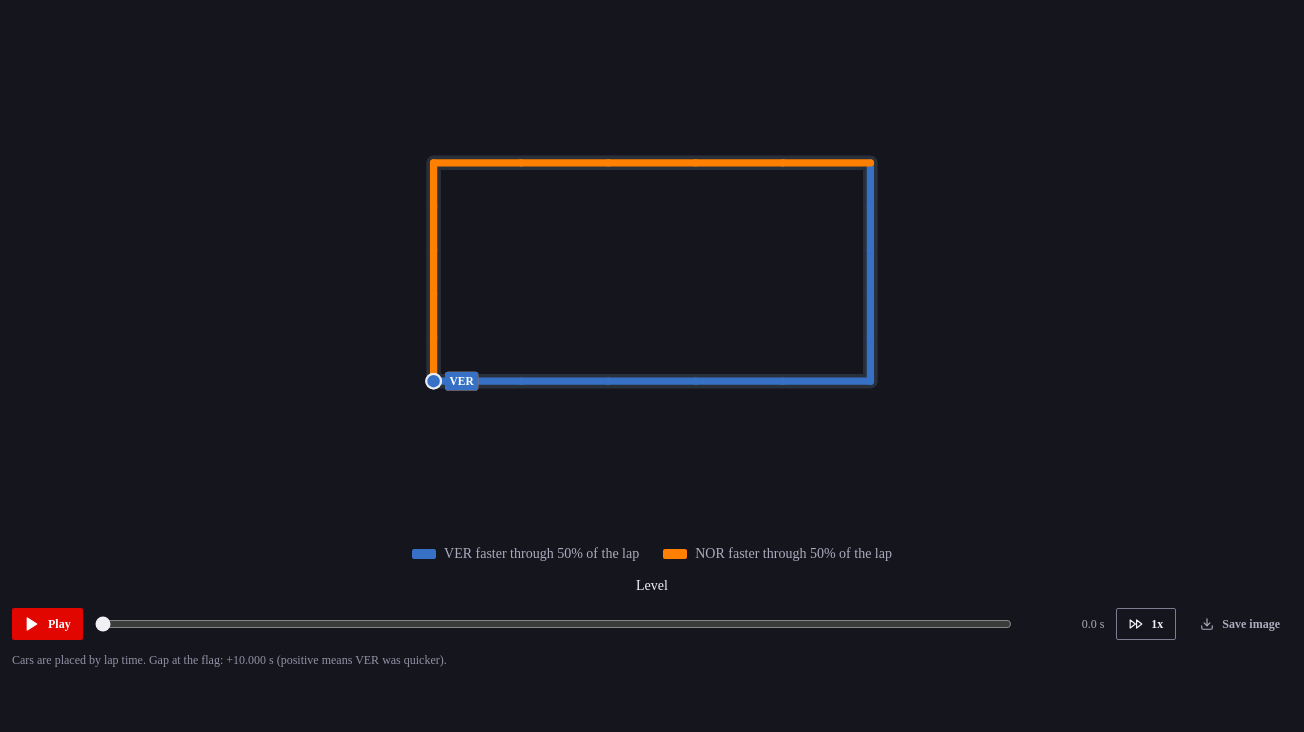
Test: DominanceMap › plays and pauses the two cars
This screenshot has width=1304, height=732.
Step 1. Click the button with aria-label "play both laps" → (47, 624), box [12,608,83,640]
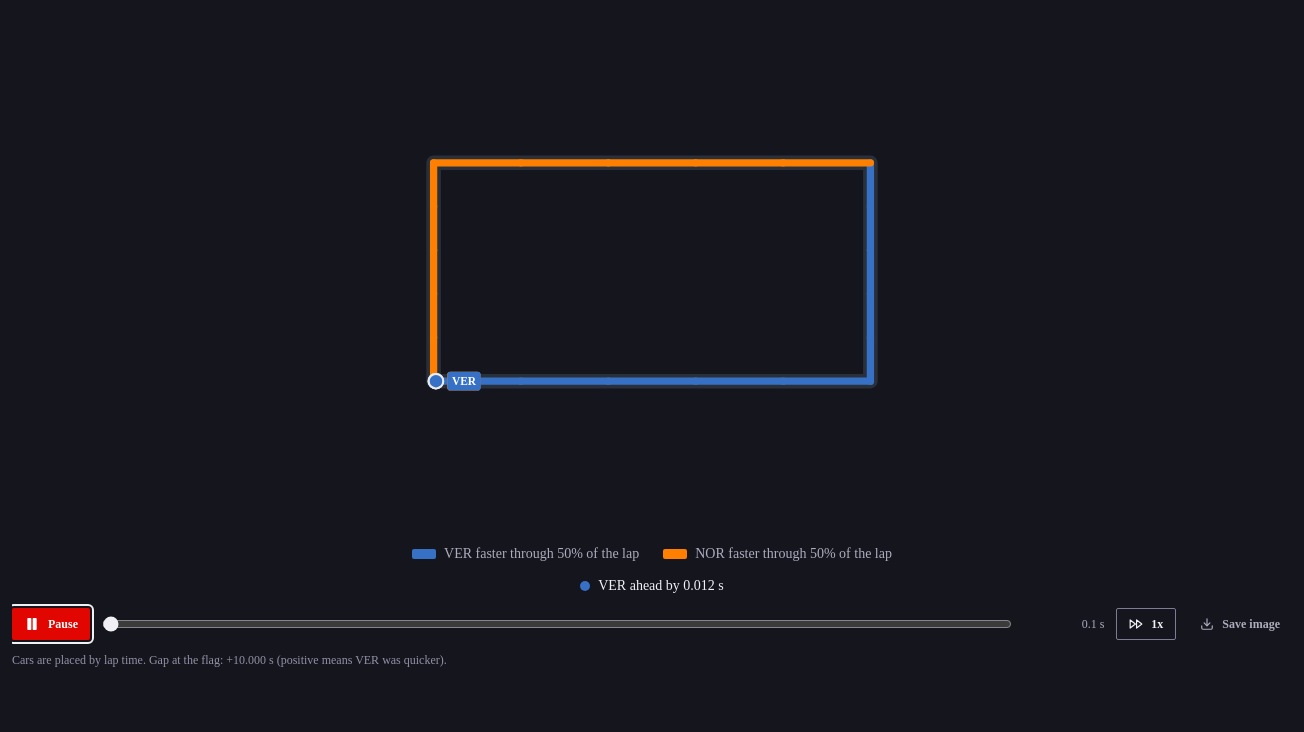
Result: the button "Pause" is shown
Step 2. Click the button "Pause" → (51, 624), box [12,608,90,640]
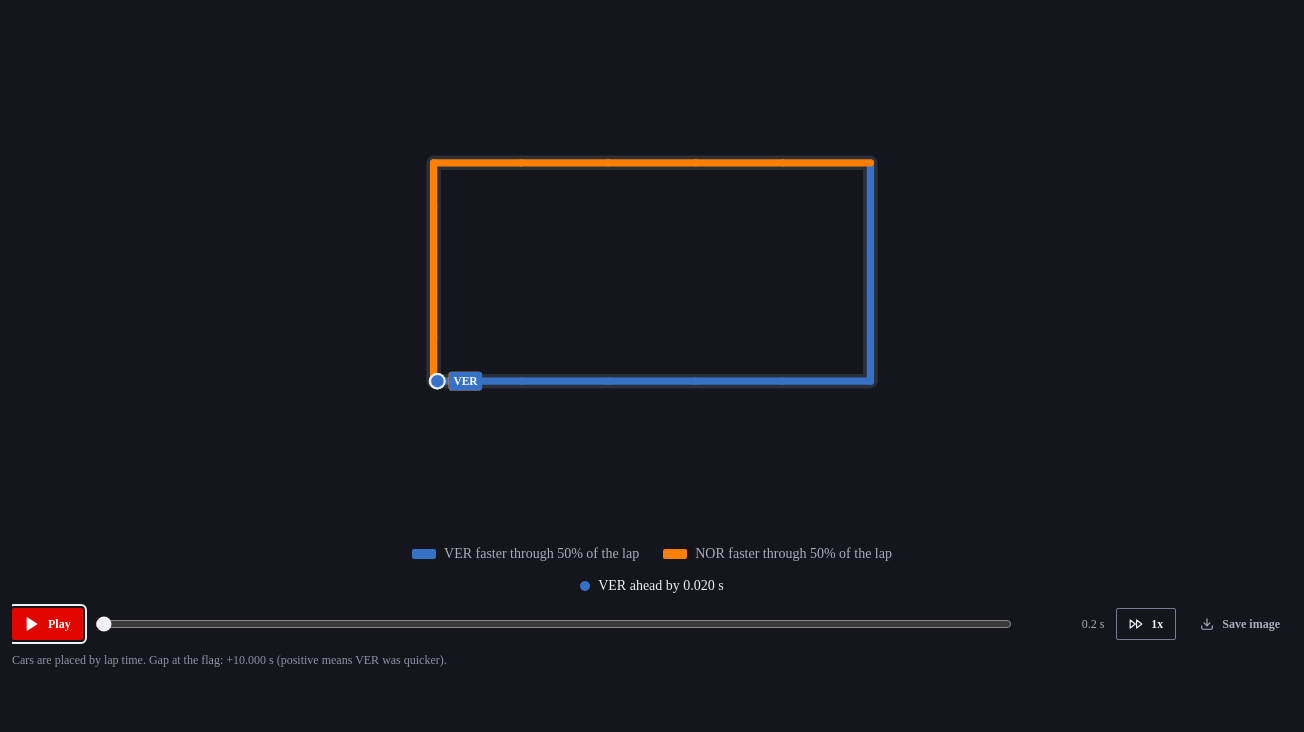
Result: the button with aria-label "play both laps" is shown at [12,608,83,640]
